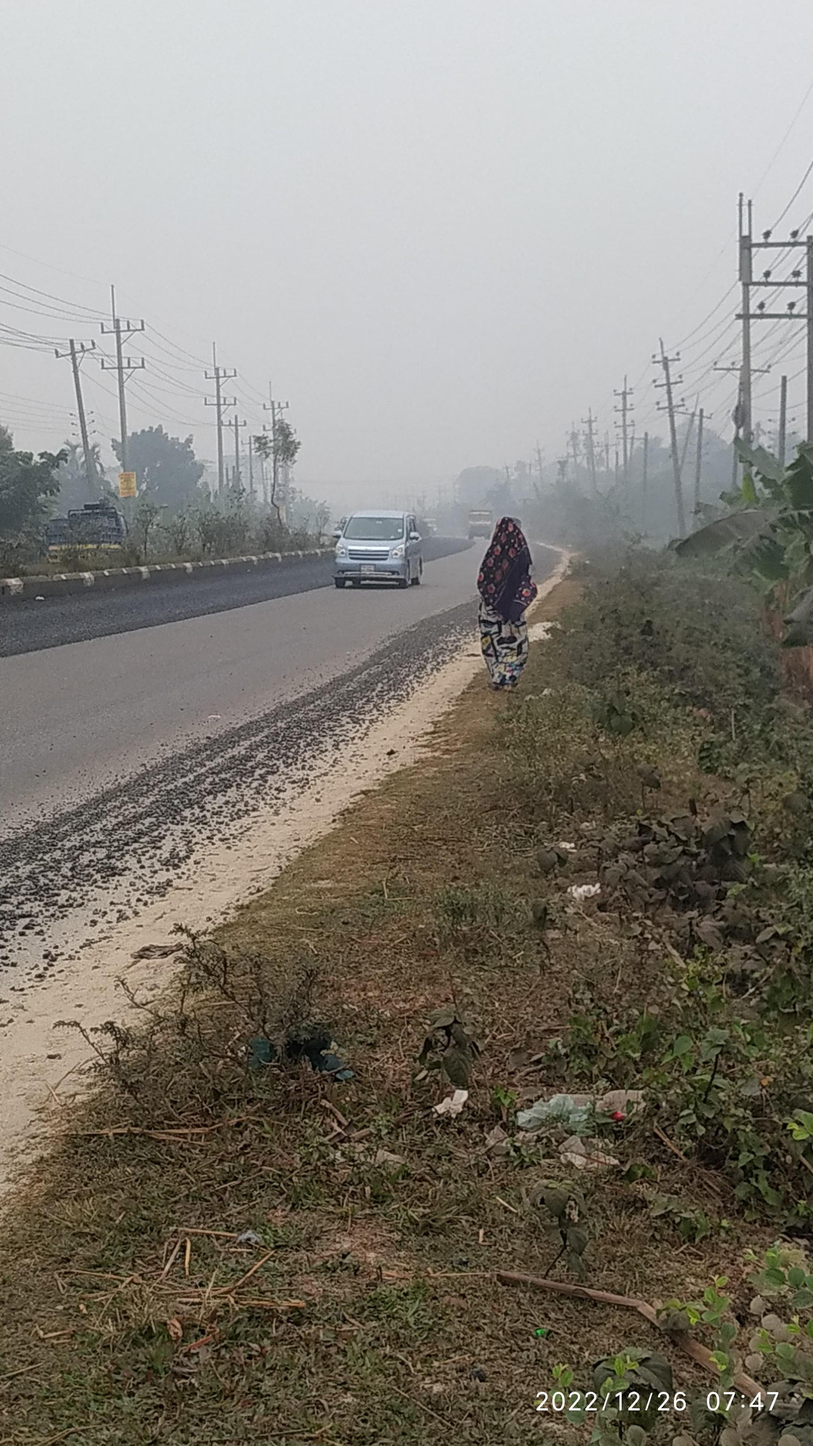Car: (314, 500, 452, 589)
Truck: (462, 500, 504, 545)
